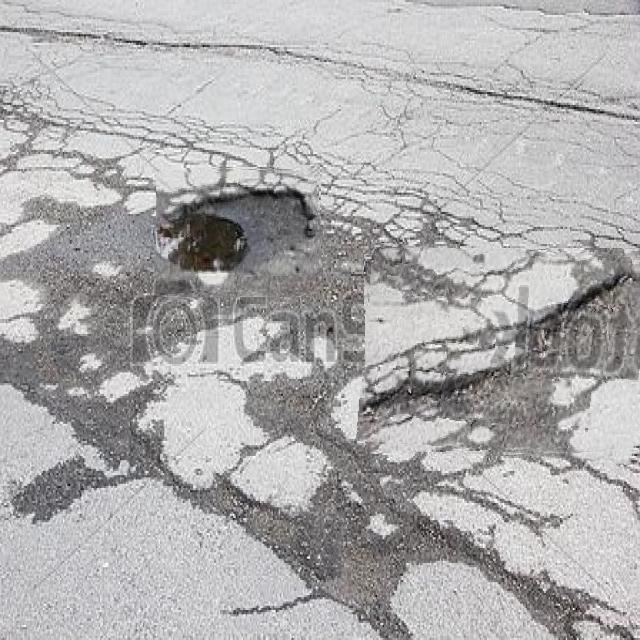Pothole: (360, 248, 640, 459), (156, 166, 322, 297)
